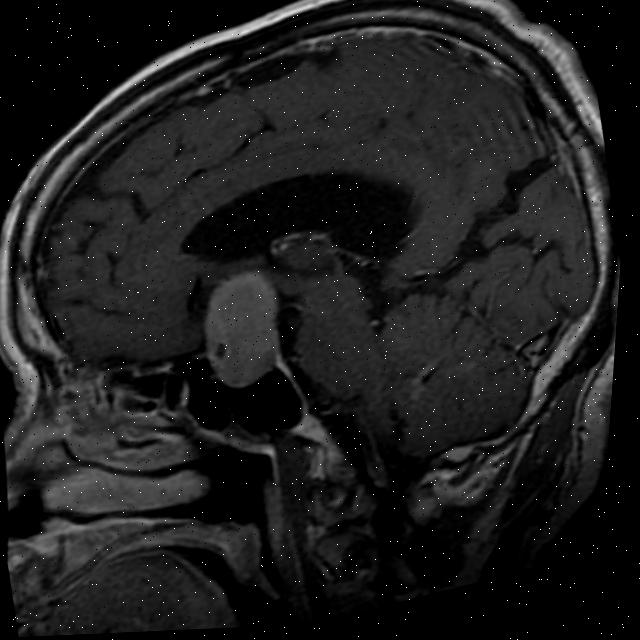Pituitary: (188, 263, 297, 396)
